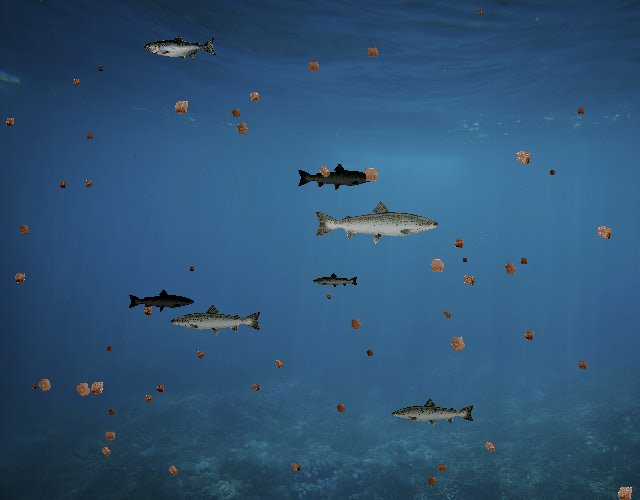Fish: (312, 199, 441, 245), (169, 304, 263, 338), (390, 397, 476, 428), (296, 163, 377, 192), (145, 35, 218, 61), (128, 288, 196, 313), (312, 272, 359, 289)
Pellet: (167, 94, 195, 122), (610, 478, 640, 500), (312, 160, 336, 184), (230, 116, 254, 140), (243, 86, 266, 109), (14, 219, 35, 240), (80, 175, 96, 191), (546, 166, 559, 179), (27, 381, 39, 393)
